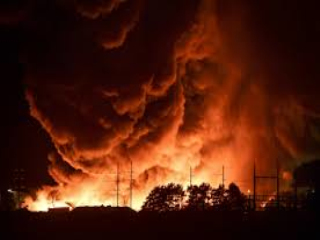fire: (39, 187, 211, 216)
smoke: (36, 54, 271, 180)
